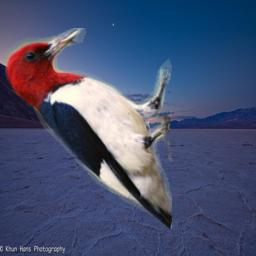Woodpecker: (3, 28, 172, 229)
